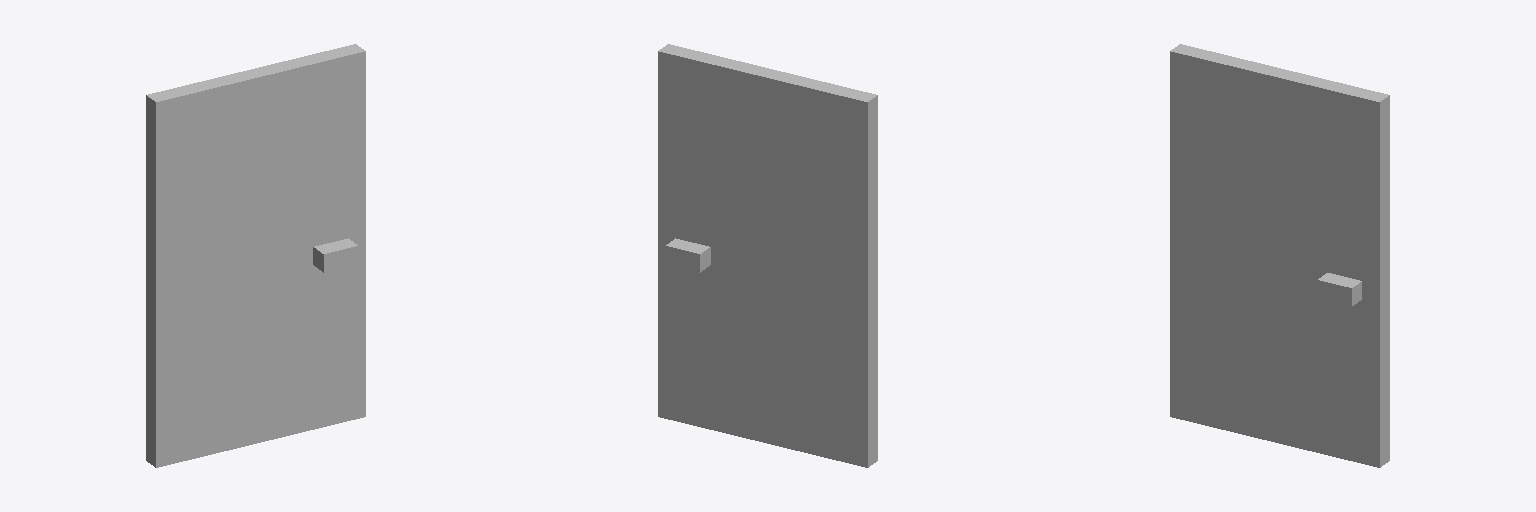
File: Door.obj
3 renders of one model, left to right at view 1: azimuth 30°, elevation 25°; view 2: azimuth 150°, elevation 25°; view 3: azimuth 330°, elevation 25°, orthographic.
Visible parts, largest first — view 1: object 1; view 2: object 1; view 3: object 1.
Boxes of the visible parts, x1=… form: object 1: x1=146, y1=44, x2=365, y2=467; object 1: x1=658, y1=44, x2=877, y2=467; object 1: x1=1170, y1=44, x2=1389, y2=467.
Bounding box in the file's own units: 1.2 × 2 × 0.3.